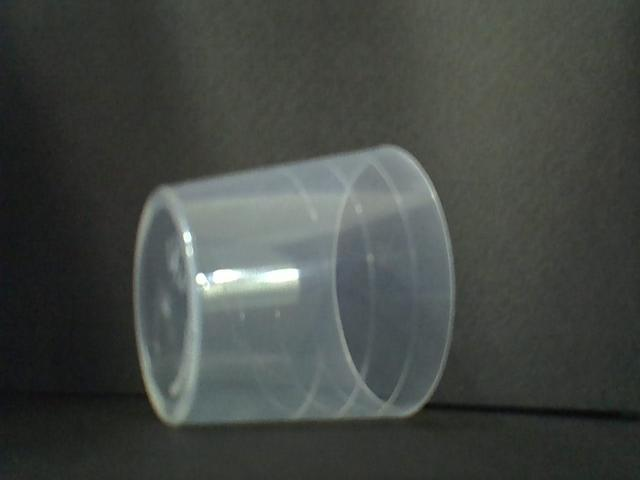cup: (133, 142, 461, 432)
